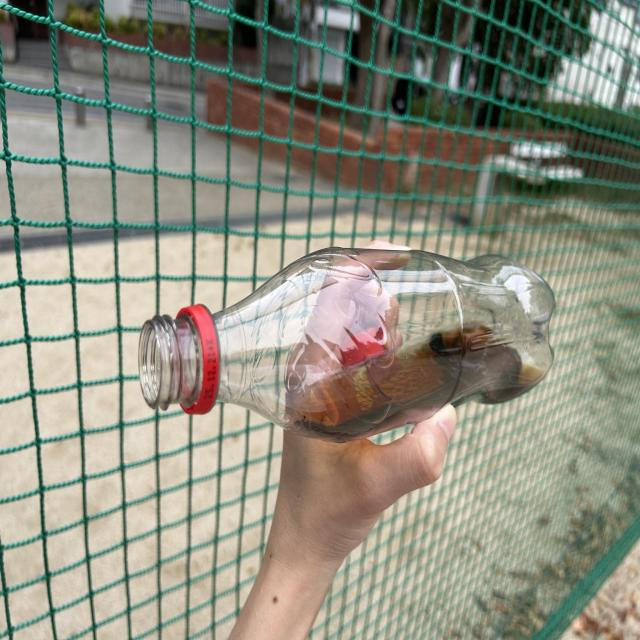medium: (138, 248, 555, 442)
